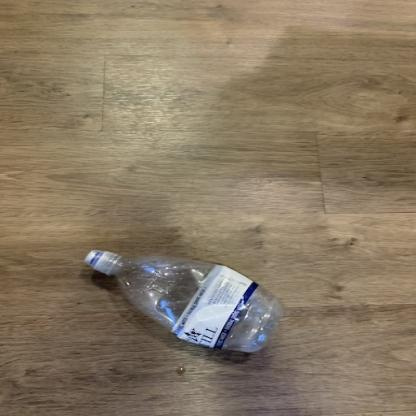trash: (84, 250, 284, 354)
